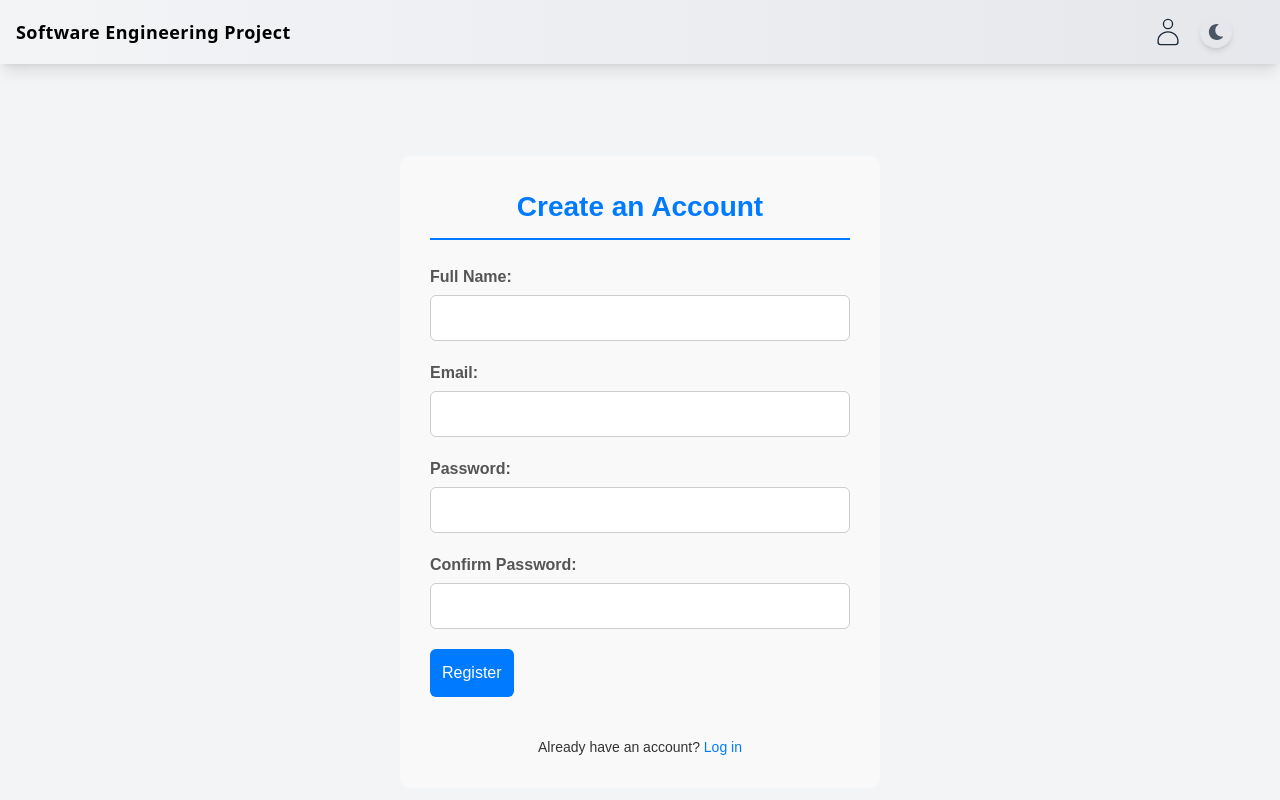
Scenario: Authentication Flow › User Registration › should show validation errors for invalid email
The image size is (1280, 800).
Type "Test User" into the field with test id "name-input".
click(640, 318); type("Test User")  # box [430,295,850,341]
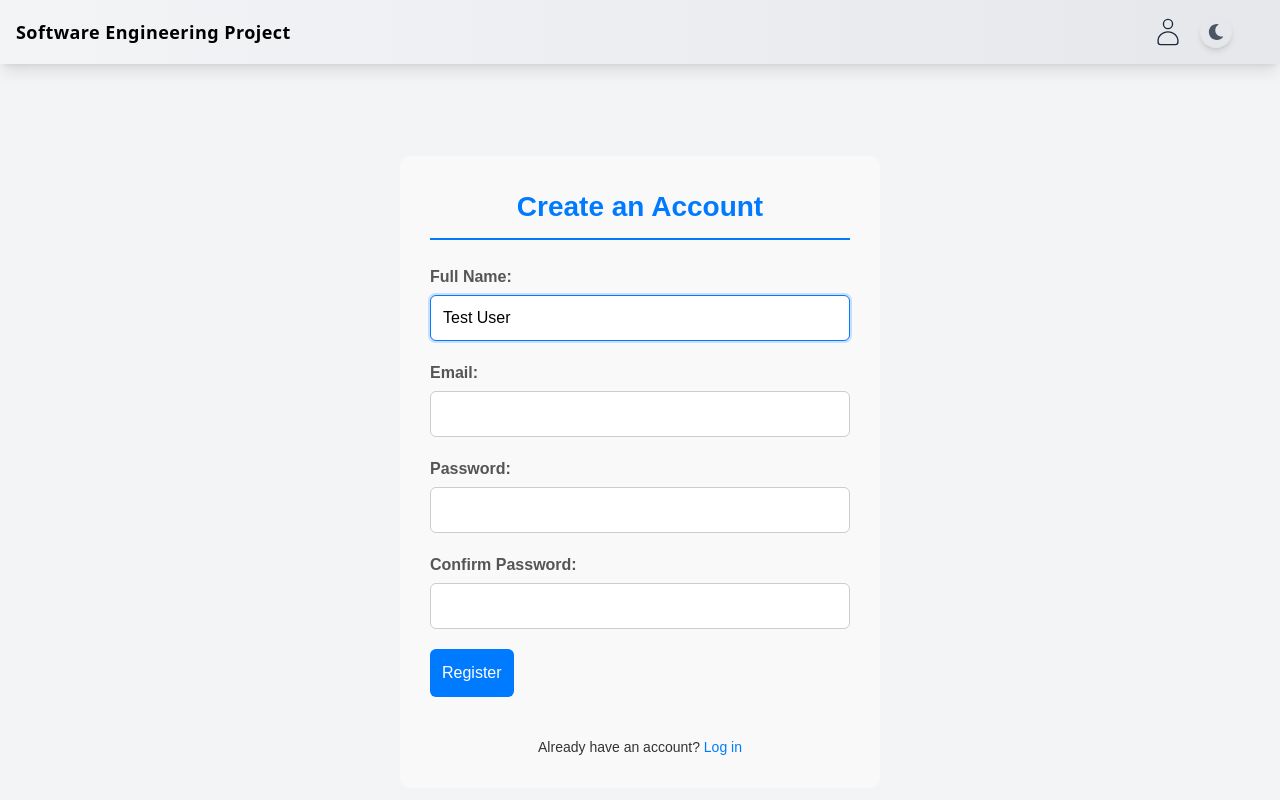
Type "invalid-email" into the field with test id "email-input".
click(640, 414); type("invalid-email")  # box [430,391,850,437]
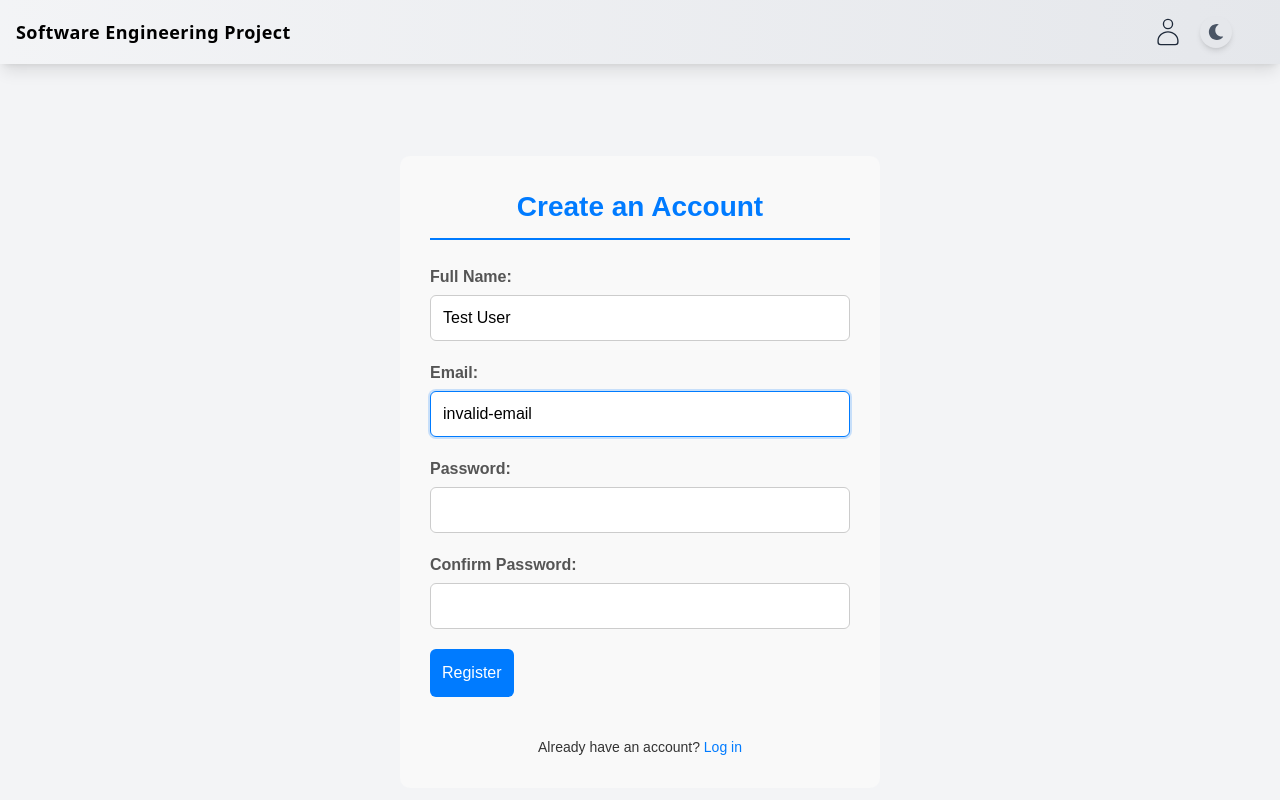
Type "Password123!" into the password field with test id "password-input".
click(640, 510); type("Password123!")  # box [430,487,850,533]
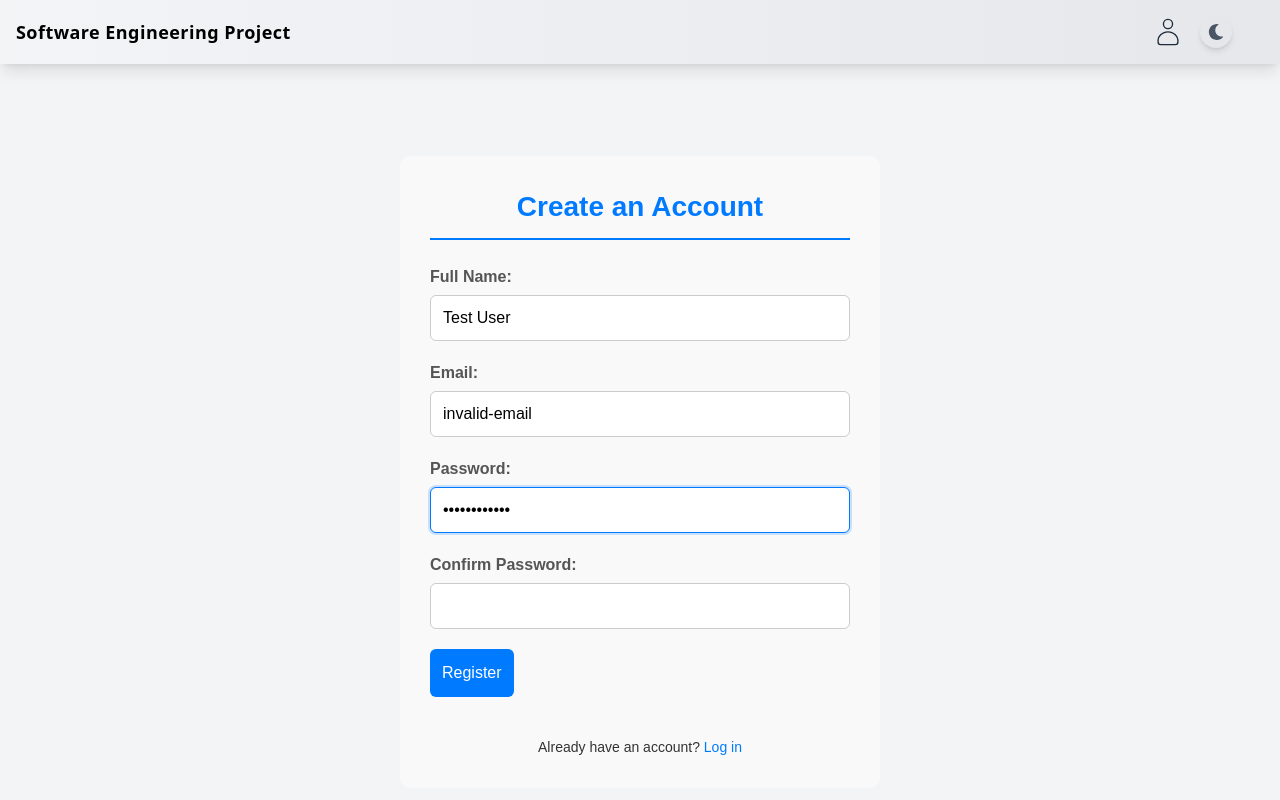
Type "Password123!" into the password field with test id "confirm-password-input".
click(640, 606); type("Password123!")  # box [430,583,850,629]
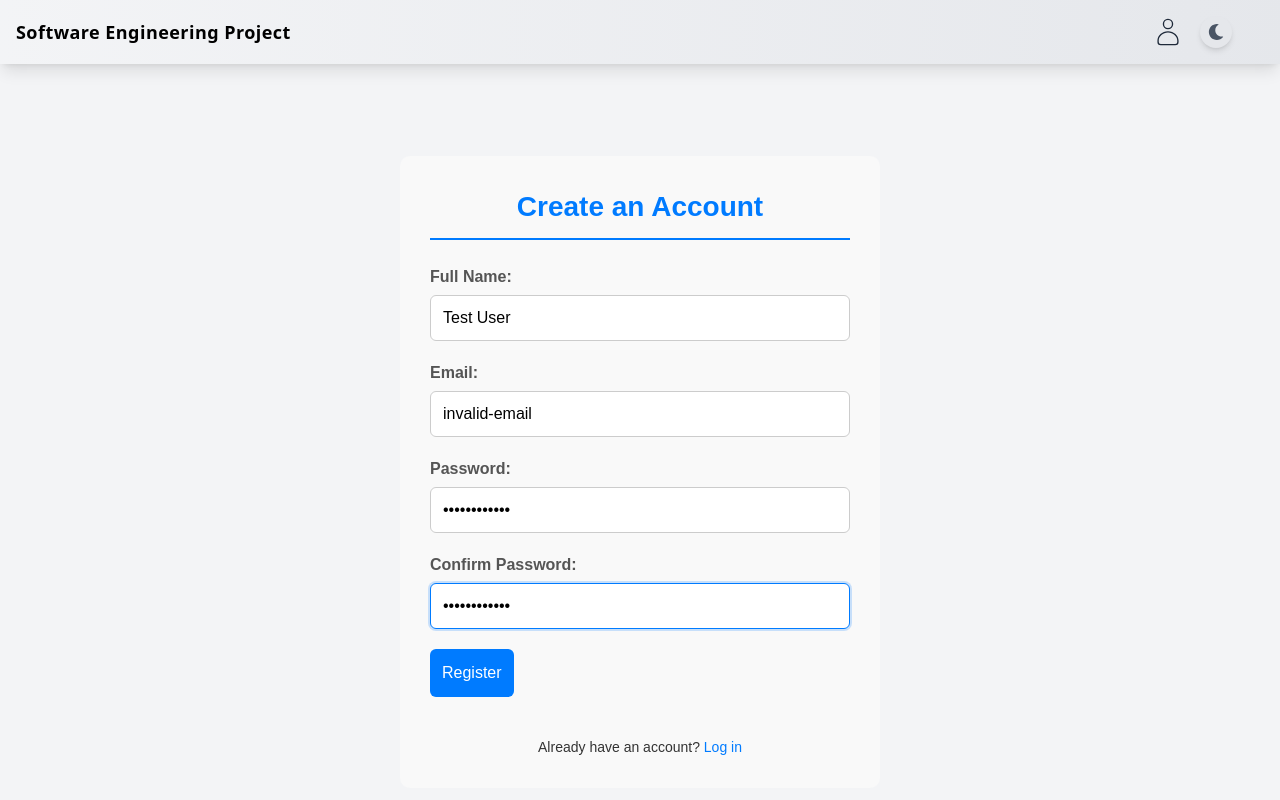
Click the button with test id "register-button".
click(472, 673)  # box [430,649,514,697]
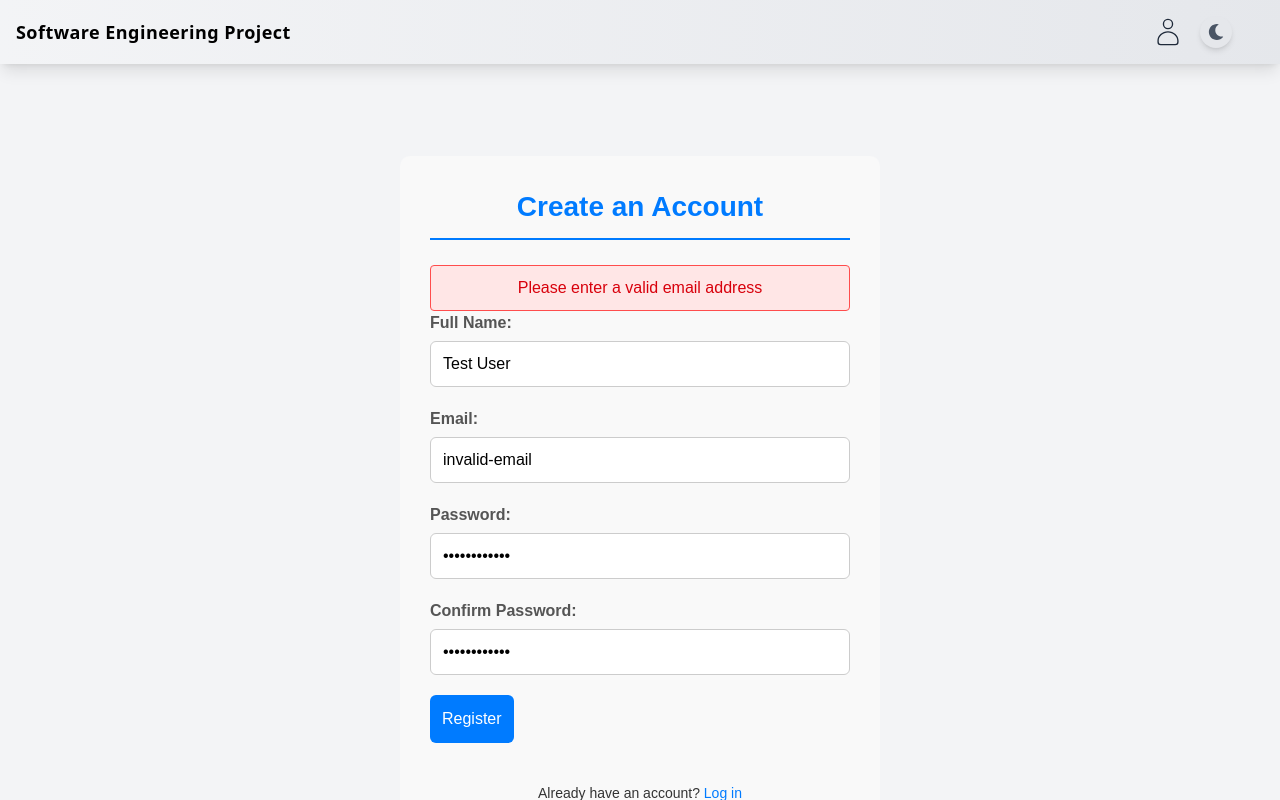
Check: the text "Please enter a valid email address" is shown, box [430,265,850,311]
